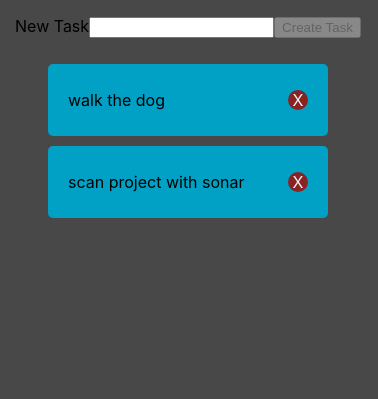
Given an App component › When it's rendered and an user types 'hola' in the form and clicks on submit › Then the text 'hola' should display in the page
Type "hola" into the field labelled "New Task". click: (182, 28)
box: [89,17,274,38]
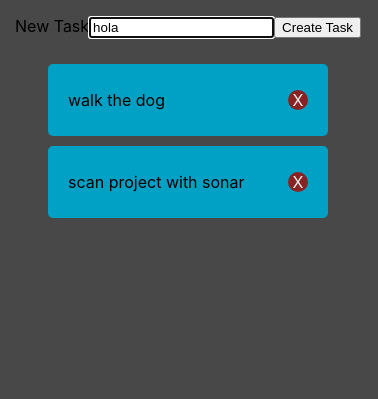
Click the button. click: (318, 28)
box: [274,17,361,38]
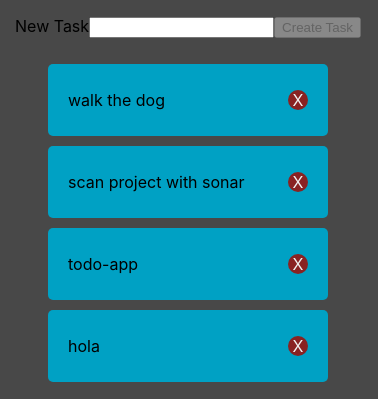
Expected: the text "hola" is shown, [68,336,100,356]
